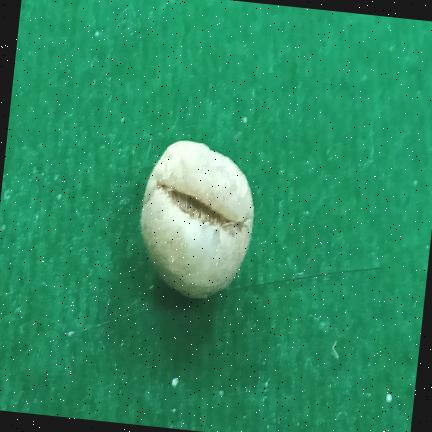good: (141, 141, 254, 298)
